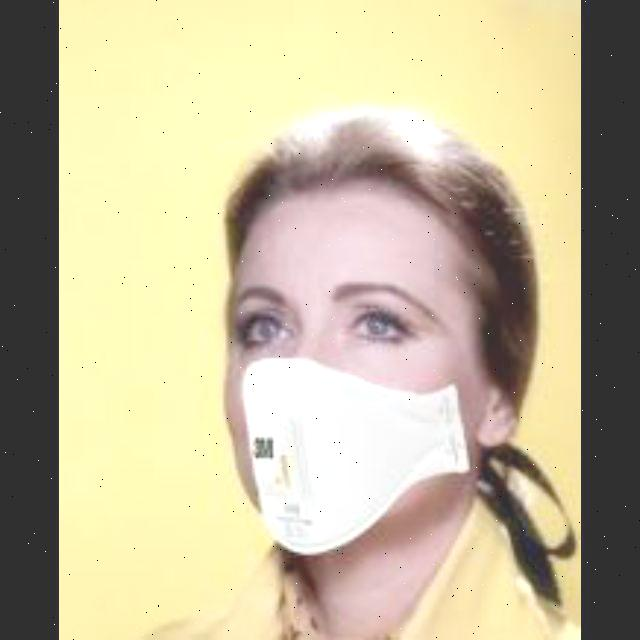suspicion: (210, 108, 550, 554)
